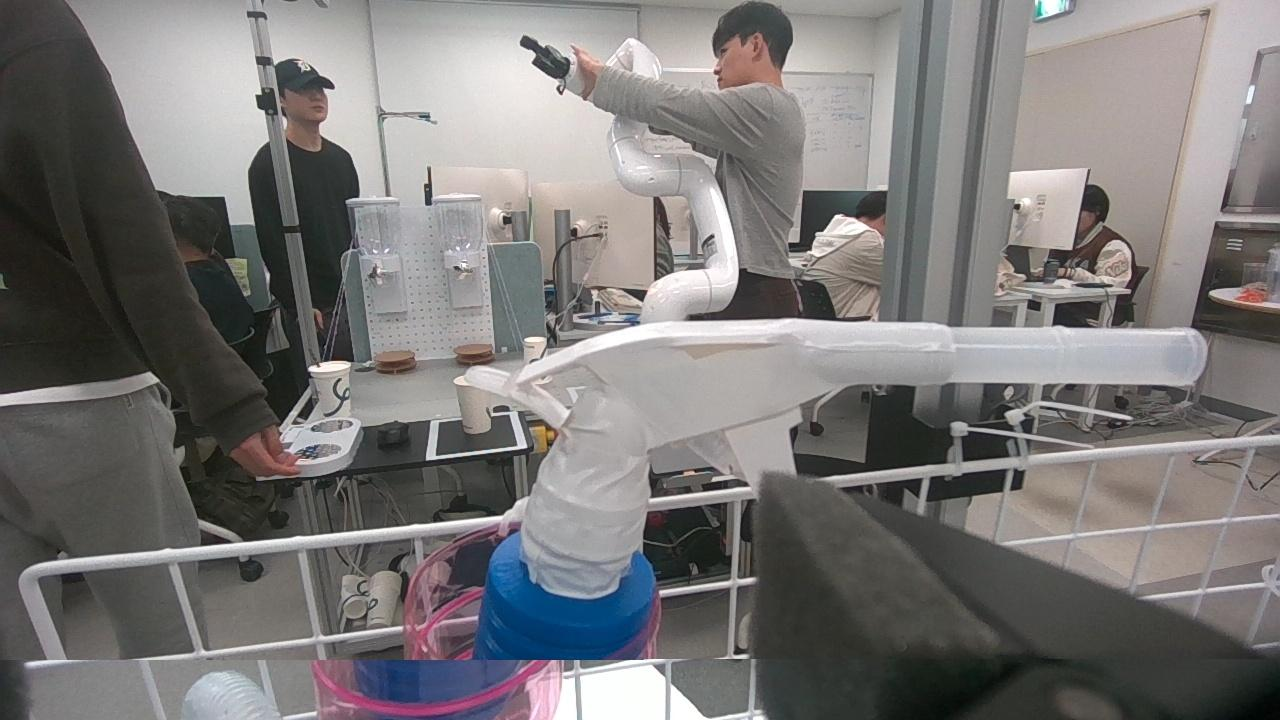Nozzle: (462, 314, 958, 706)
